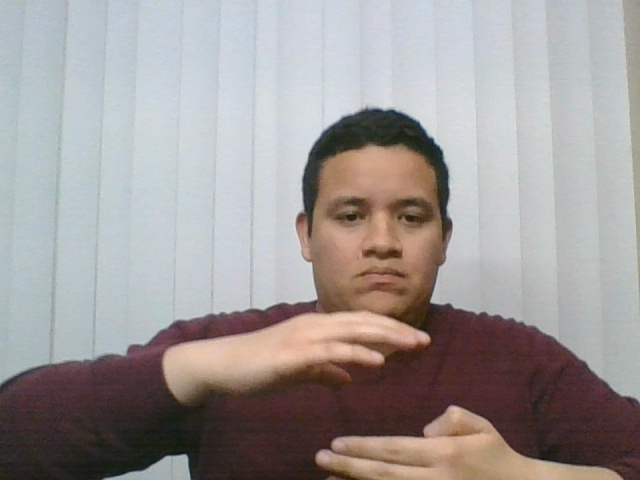To Study: (132, 286, 545, 480)
